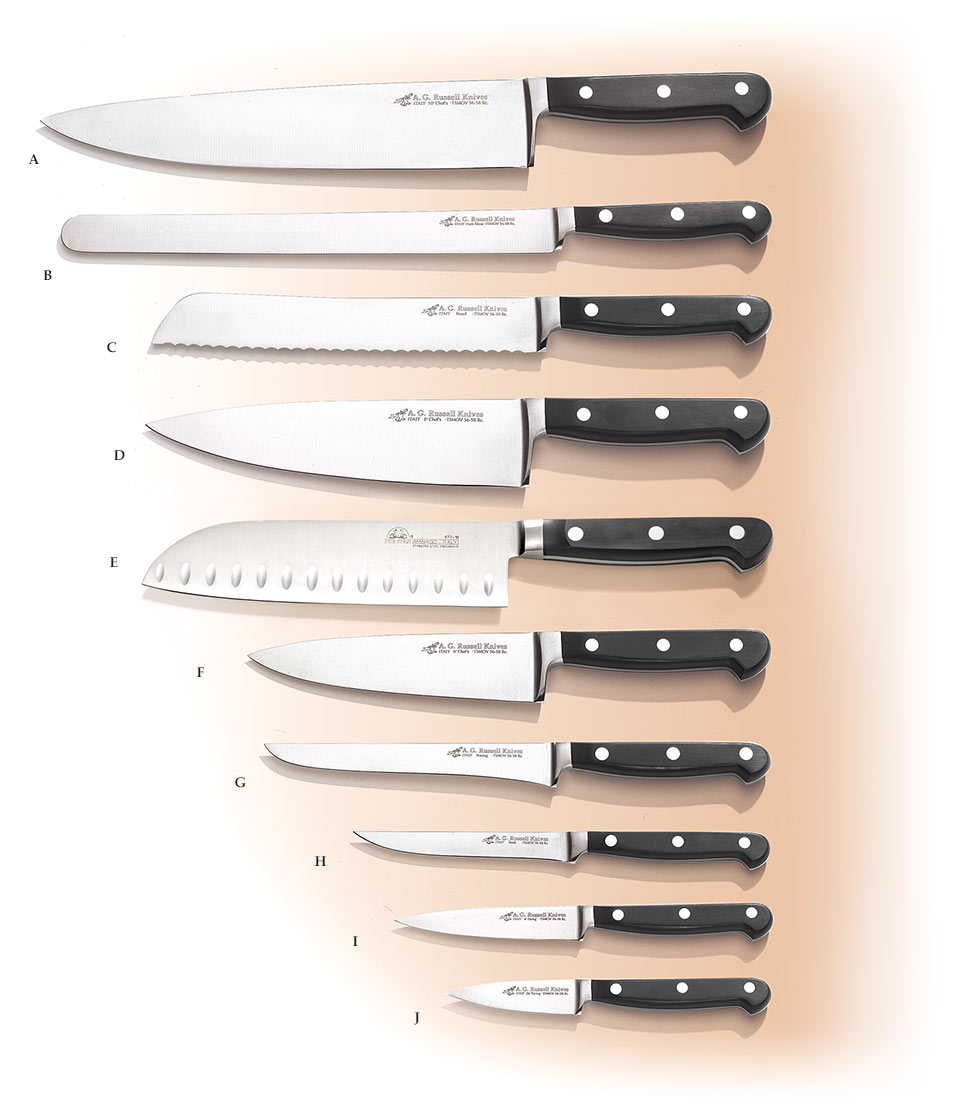knife: (43, 72, 769, 167), (148, 396, 769, 493), (140, 516, 774, 610), (60, 199, 774, 257), (152, 291, 772, 355), (246, 630, 774, 701), (258, 738, 772, 788), (350, 825, 772, 865), (397, 901, 770, 940), (452, 976, 770, 1018)
